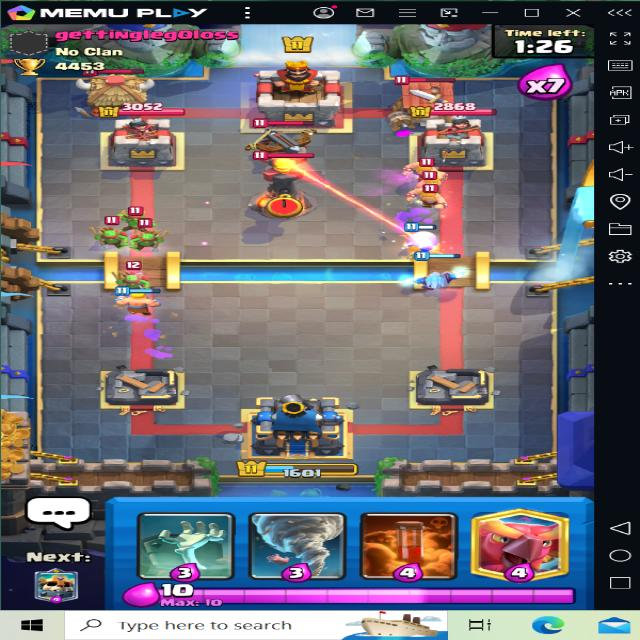Barbarian: (404, 186, 454, 210), (405, 173, 459, 192), (399, 154, 444, 176)
Barbarianhut: (390, 74, 462, 124)
Goblinhut: (77, 64, 150, 113)
Infernotower: (253, 149, 319, 215)
Speargoblin: (116, 201, 153, 228), (134, 224, 164, 251), (119, 263, 147, 291), (98, 223, 129, 246)
Xbow: (234, 112, 322, 168)
